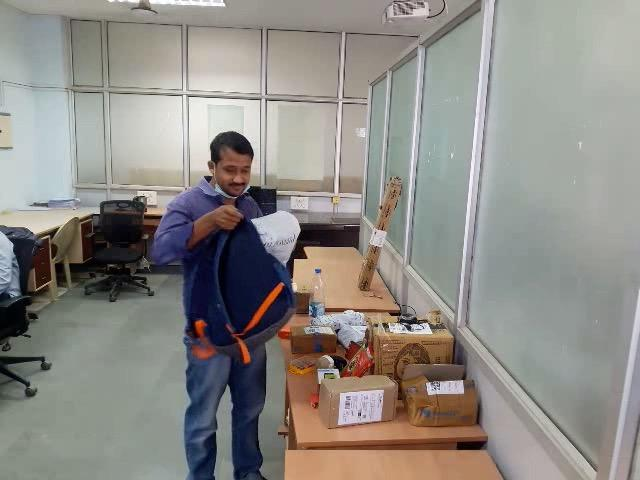shoplifting: (118, 199, 322, 383)
